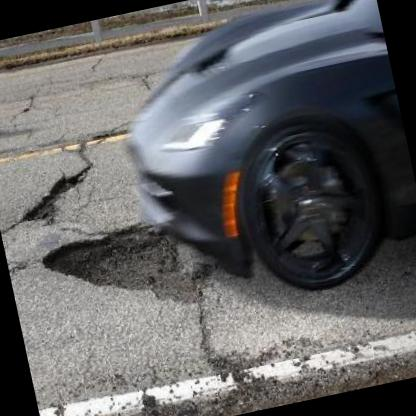pothole: (38, 206, 222, 331), (15, 166, 93, 226)
